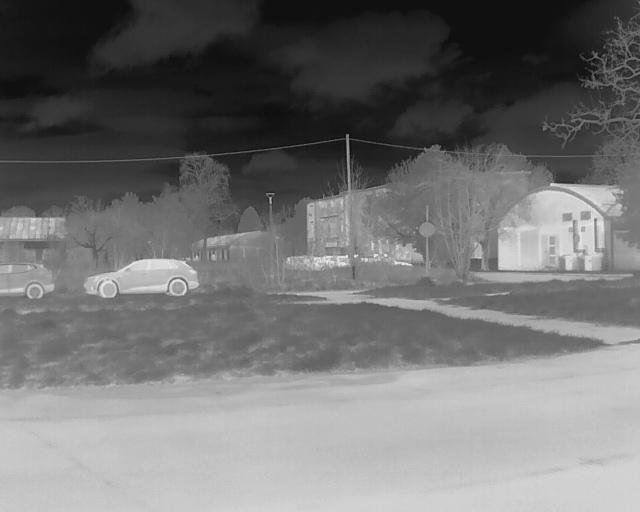drone: (329, 244, 391, 273)
